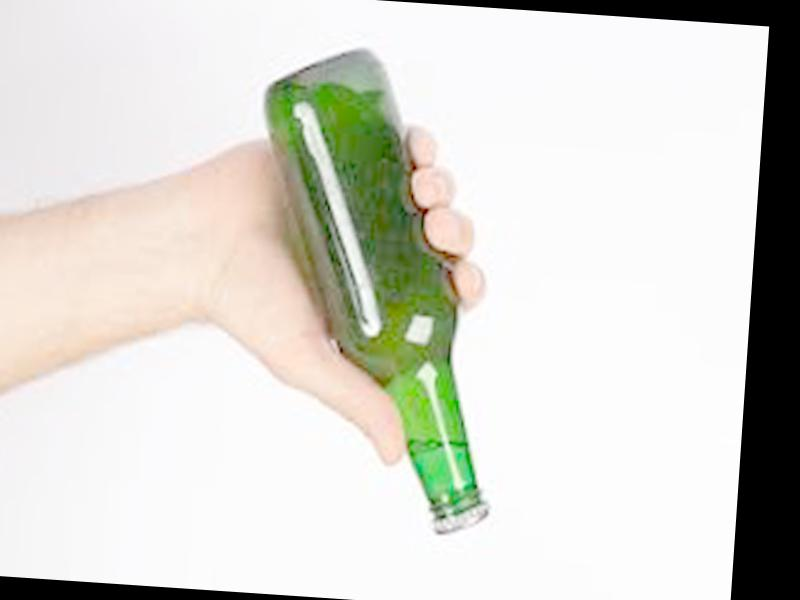Beer: (235, 47, 517, 540)
